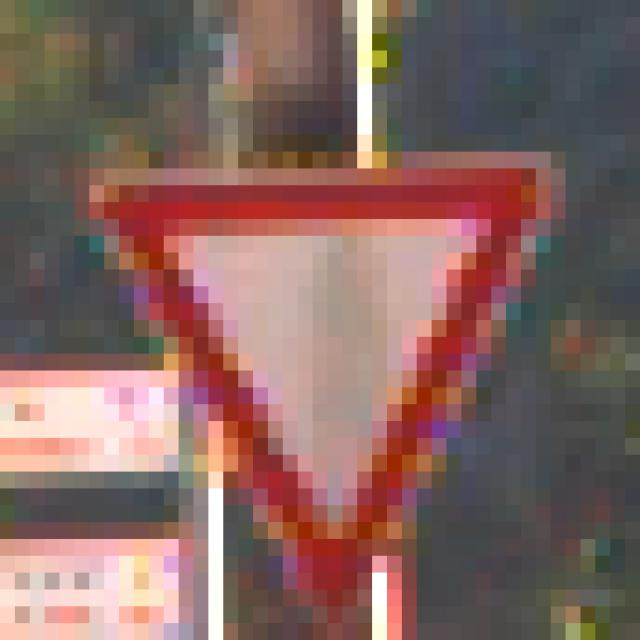Give Way: (90, 102, 552, 557)
